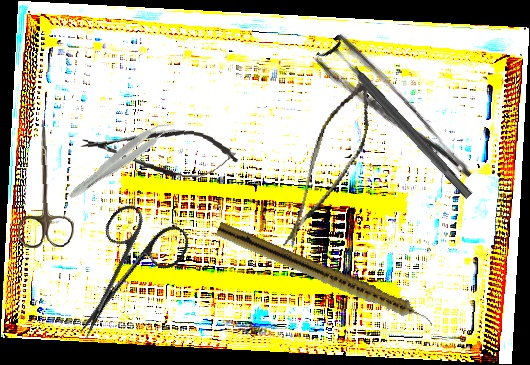Dressing Forceps: (312, 30, 476, 201)
Fixation Ring: (315, 33, 481, 208)
Handpiece: (213, 220, 438, 333)
Iris Scissors: (49, 194, 195, 360), (12, 119, 75, 249)
Micro Scissor: (282, 74, 379, 260), (77, 118, 242, 185)
Tissue Forceps: (65, 114, 179, 207)
